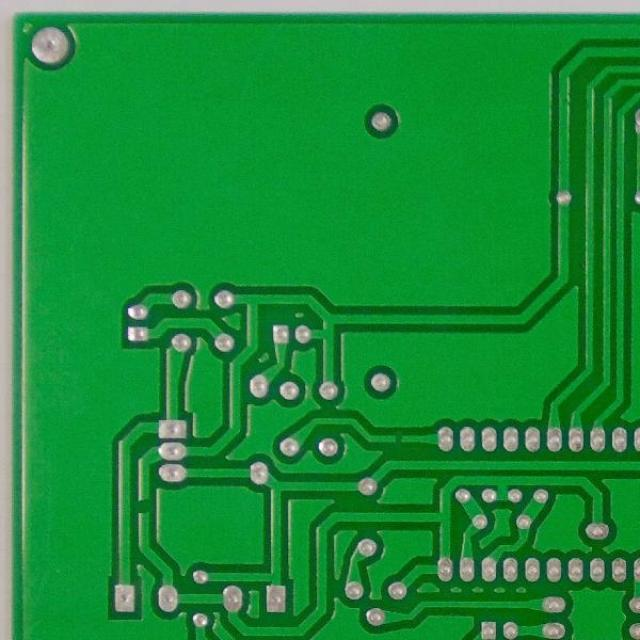Open_Circuit: (129, 491, 156, 524), (389, 430, 411, 447)
